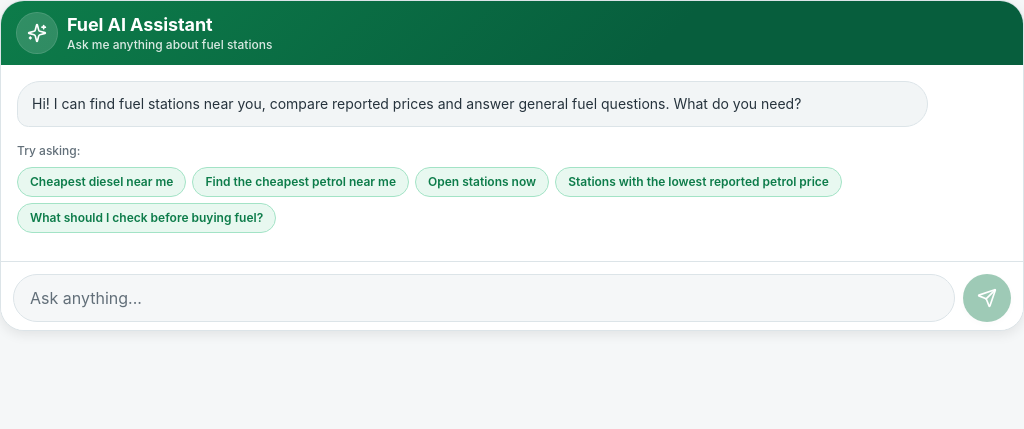
Test: conversational questions › answers a fuel question conversationally
Type "Why should I verify a fuel station's reported price?" into the field named "Ask Fuel AI".
click(484, 298); type("Why should I verify a fuel station's reported price?")  # box [13,274,955,322]
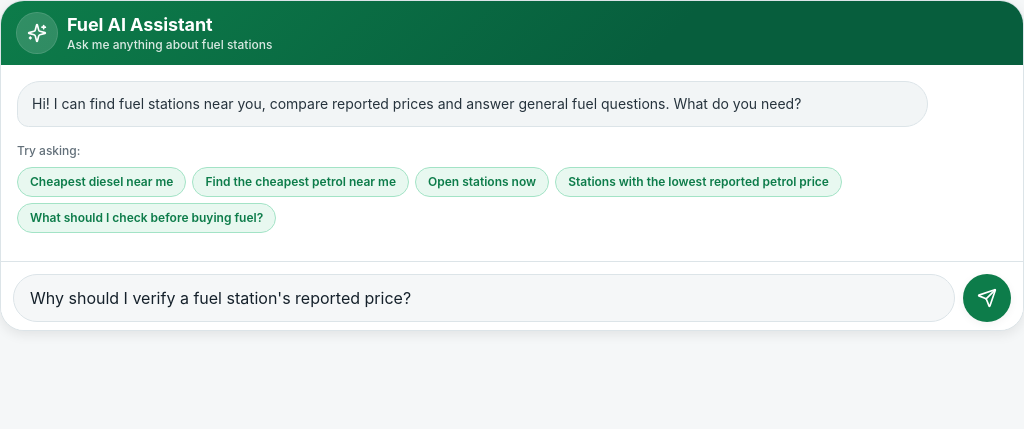
Click the button named "ask fuel ai".
click(987, 298)  # box [963,274,1011,322]
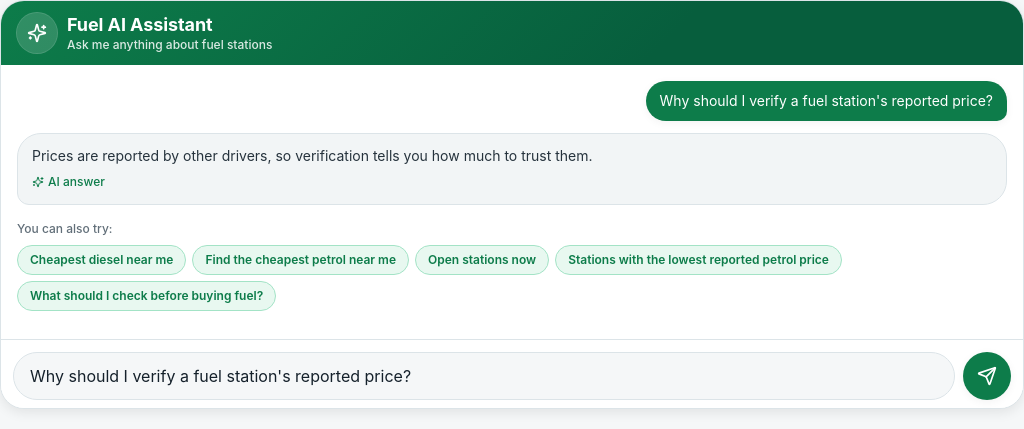
Result: the element with test id "ai-conversation-answer" shows "verification tells you how much to trust them" at [32,147,592,164]
Result: the element with test id "ai-answer-source" reads "AI answer" at [48,174,105,189]
